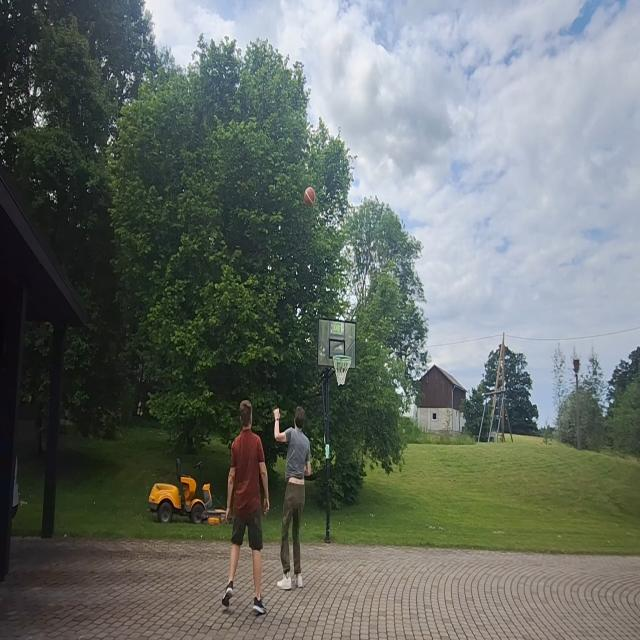ball: (303, 186, 317, 208)
basket: (332, 352, 352, 387)
player: (222, 399, 270, 620), (273, 402, 312, 591)
